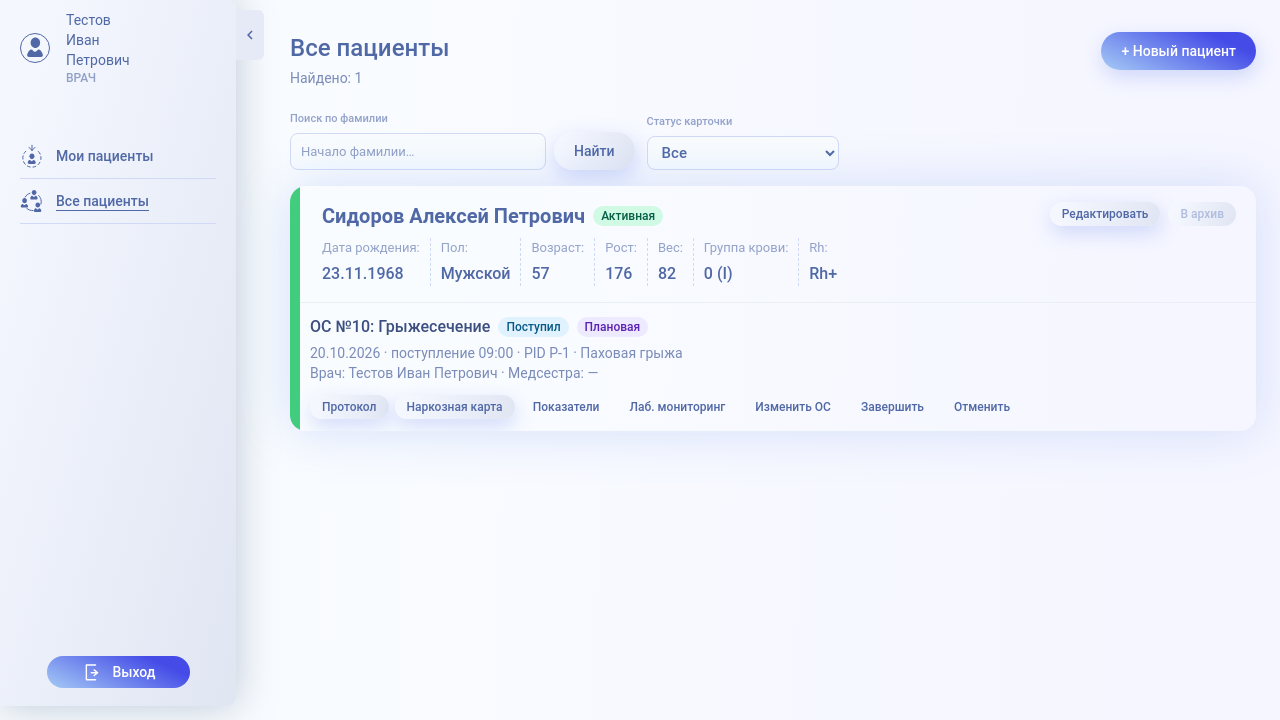
Test: реестр пациентов › ошибка бизнес-правила при завершении ОС показывается пользователю
Click the button "Завершить" at coordinates (892, 407), box [849,395,936,419]
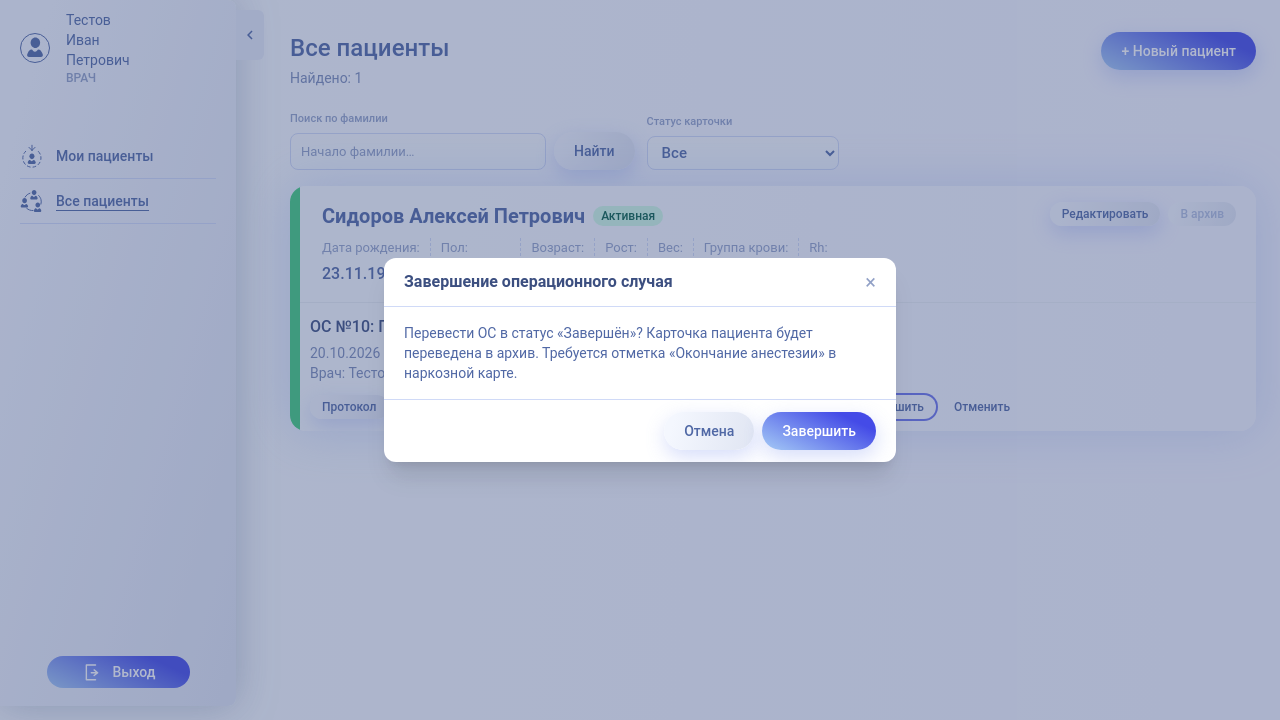
Click the button "Завершить" at coordinates (819, 431), box [762,412,876,450]
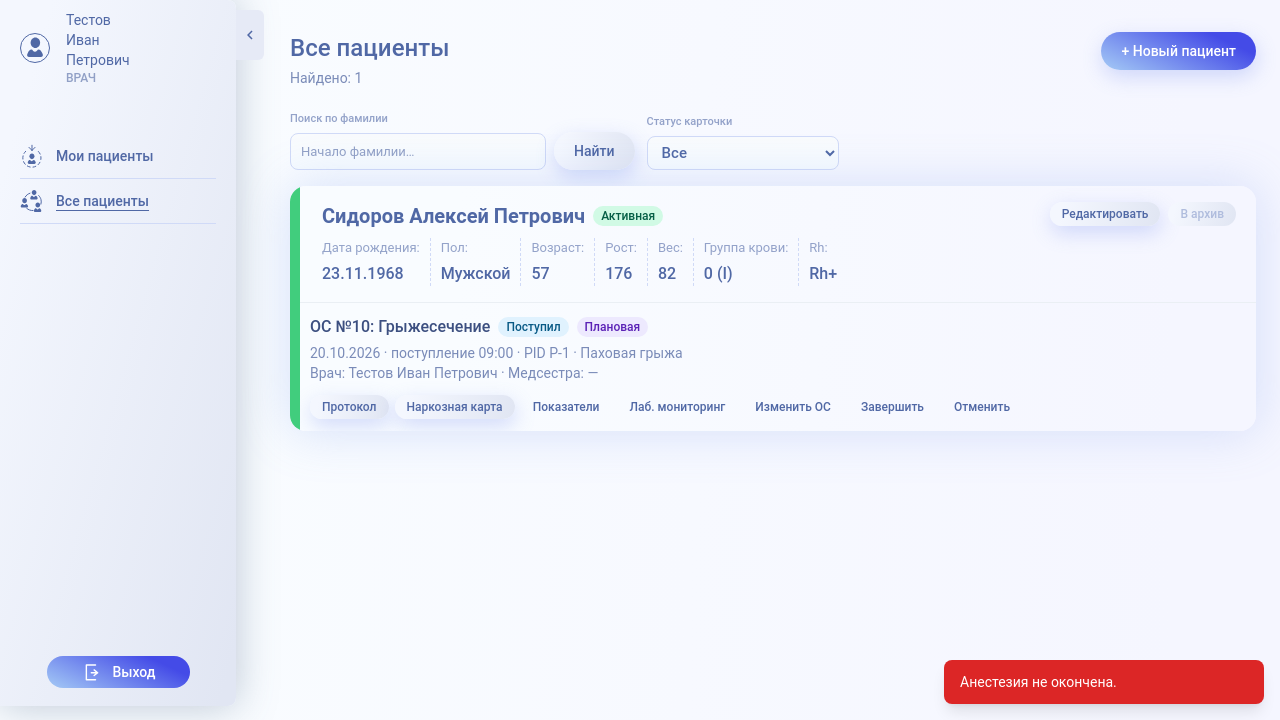
Expected: the text "Анестезия не окончена." is shown, [944,660,1264,704]
